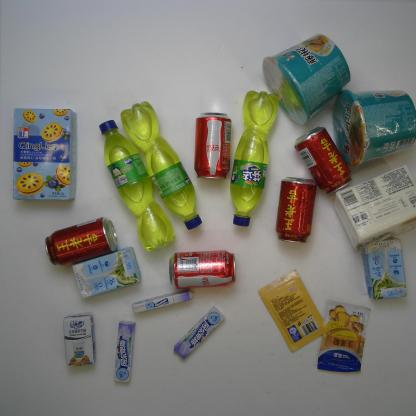Candy: (173, 304, 226, 361), (131, 289, 195, 315), (112, 319, 136, 385)
Dessert: (11, 106, 78, 203)
Drink: (120, 99, 204, 231), (99, 118, 177, 253), (229, 90, 280, 228), (293, 125, 354, 197), (44, 215, 119, 268), (275, 175, 318, 246), (168, 248, 236, 290), (193, 110, 233, 181)
Instant Noodles: (261, 32, 352, 127), (332, 86, 416, 171)
Milk: (71, 245, 143, 300), (360, 236, 409, 302), (60, 310, 98, 368)
Seasoner: (255, 268, 330, 354), (316, 299, 373, 373)
Tissue: (331, 163, 416, 253)
